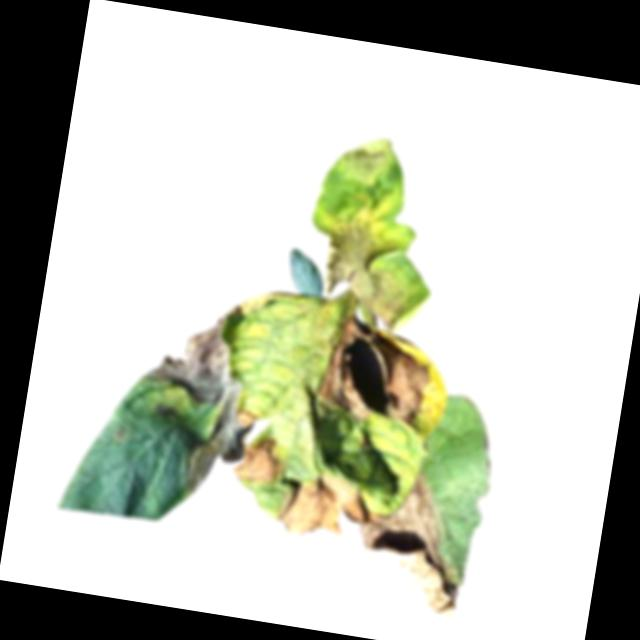Late_blight: (345, 462, 477, 620), (312, 312, 438, 433), (313, 205, 419, 336), (142, 302, 241, 406), (180, 376, 262, 501), (274, 466, 392, 548), (326, 128, 398, 194), (228, 432, 289, 490)
